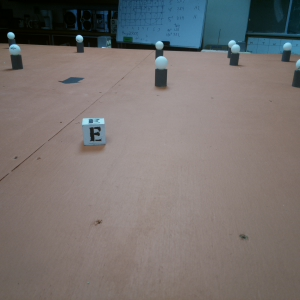obstacle: (154, 57, 169, 93), (8, 46, 26, 70), (292, 59, 300, 91), (230, 46, 241, 67), (282, 42, 293, 63), (154, 40, 166, 56), (76, 35, 85, 55), (7, 32, 19, 43), (226, 40, 236, 53)
